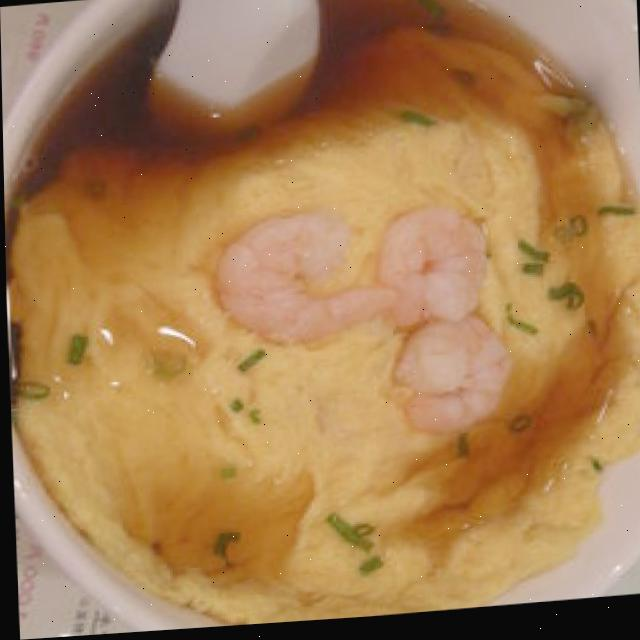面条主食: (10, 0, 640, 629)
